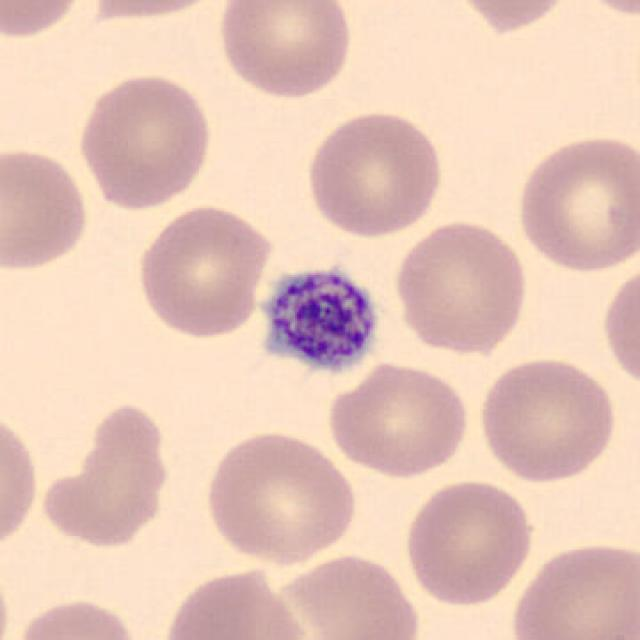Platelets: (249, 258, 384, 382)
RBC: (201, 427, 361, 568), (73, 68, 217, 212), (391, 215, 532, 356), (134, 201, 276, 340), (302, 106, 446, 240), (474, 352, 620, 484), (512, 130, 638, 277), (400, 476, 539, 608), (323, 358, 473, 479), (50, 396, 167, 551), (215, 0, 355, 100), (269, 550, 423, 640), (505, 536, 638, 640), (0, 141, 92, 275), (158, 564, 311, 640), (9, 594, 146, 640), (0, 406, 41, 556), (598, 257, 638, 393), (441, 0, 578, 35), (0, 0, 90, 42), (78, 0, 233, 23), (571, 0, 638, 18)
